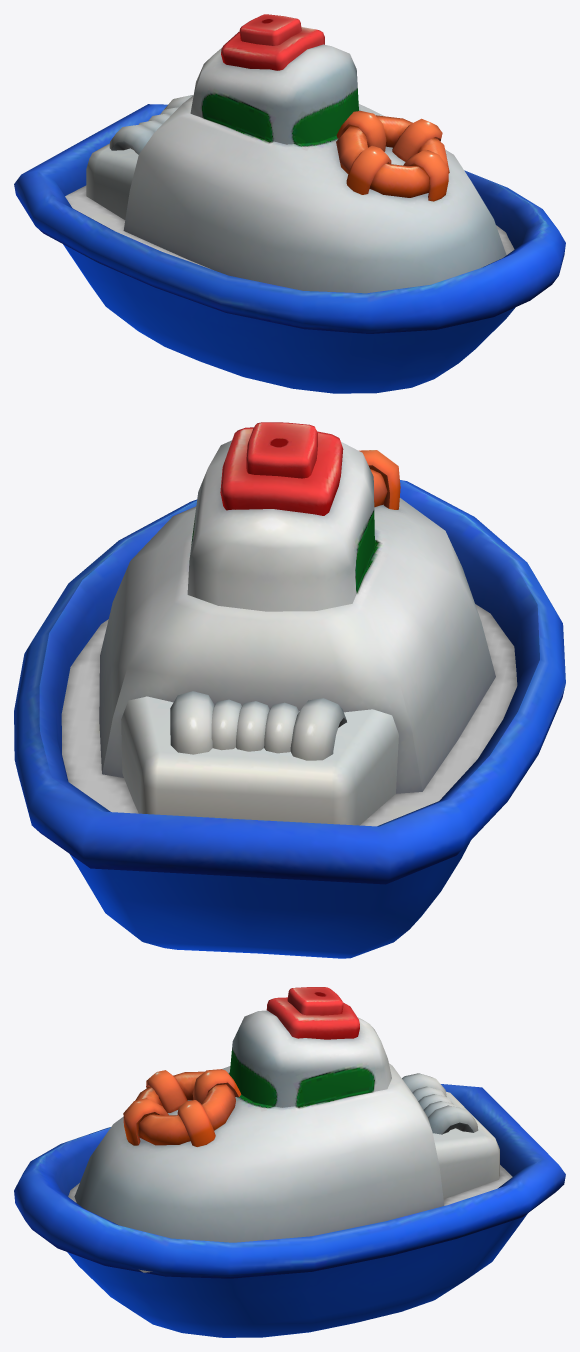
File: 0-boat_blue.fbx
The picture shows the model from 3 angles, top to bottom: view 1: azimuth 30°, elevation 25°; view 2: azimuth 150°, elevation 25°; view 3: azimuth 270°, elevation 25°; orthographic projection. The views are drawn at different scales.
Parts seen in each view (by area): view 1: 0-boat_blue; view 2: 0-boat_blue; view 3: 0-boat_blue.
Part boxes in pixels (<box>): 0-boat_blue: <box>14,14,565,393</box>; 0-boat_blue: <box>14,422,565,958</box>; 0-boat_blue: <box>14,987,565,1337</box>.
Bounding box in the file's own units: 101 × 79.63 × 134.
